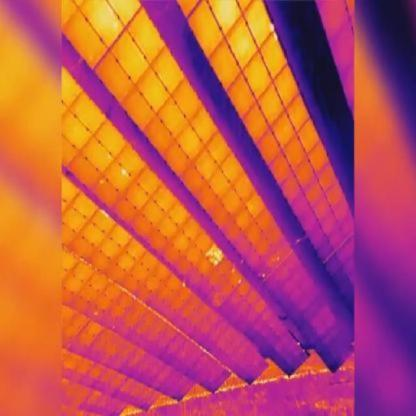anomaly: (205, 241, 226, 269)
